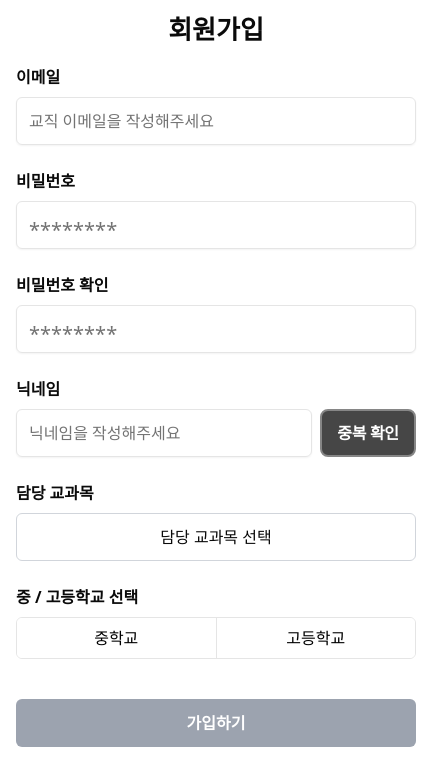
Test case: signup 컴포넌트 단위 테스트 › 20자가 넘는 비밀번호 입력시 에러 메시지가 표시되고, 비밀번호 input의 border가 빨간색으로 변한다.
The width and height of the screenshot is (433, 780).
Type "ab12345678910112123451234512" into the password field labelled "비밀번호". click: (216, 225)
box: [16,201,416,249]
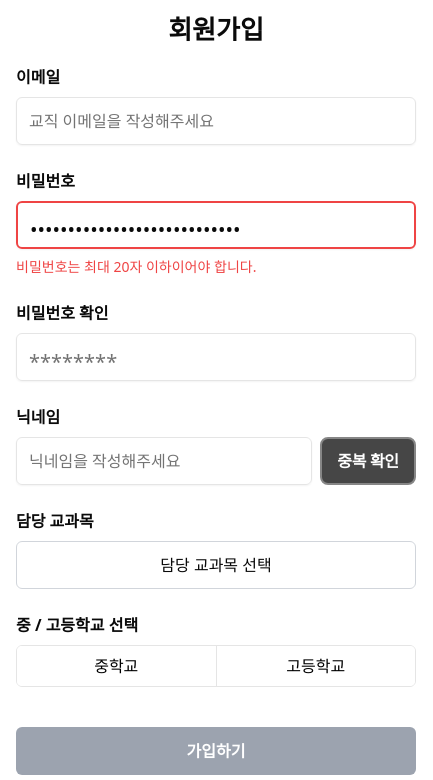
Expected: the text "비밀번호는 최대 20자 이하이어야 합니다." is shown, [16,257,256,276]
